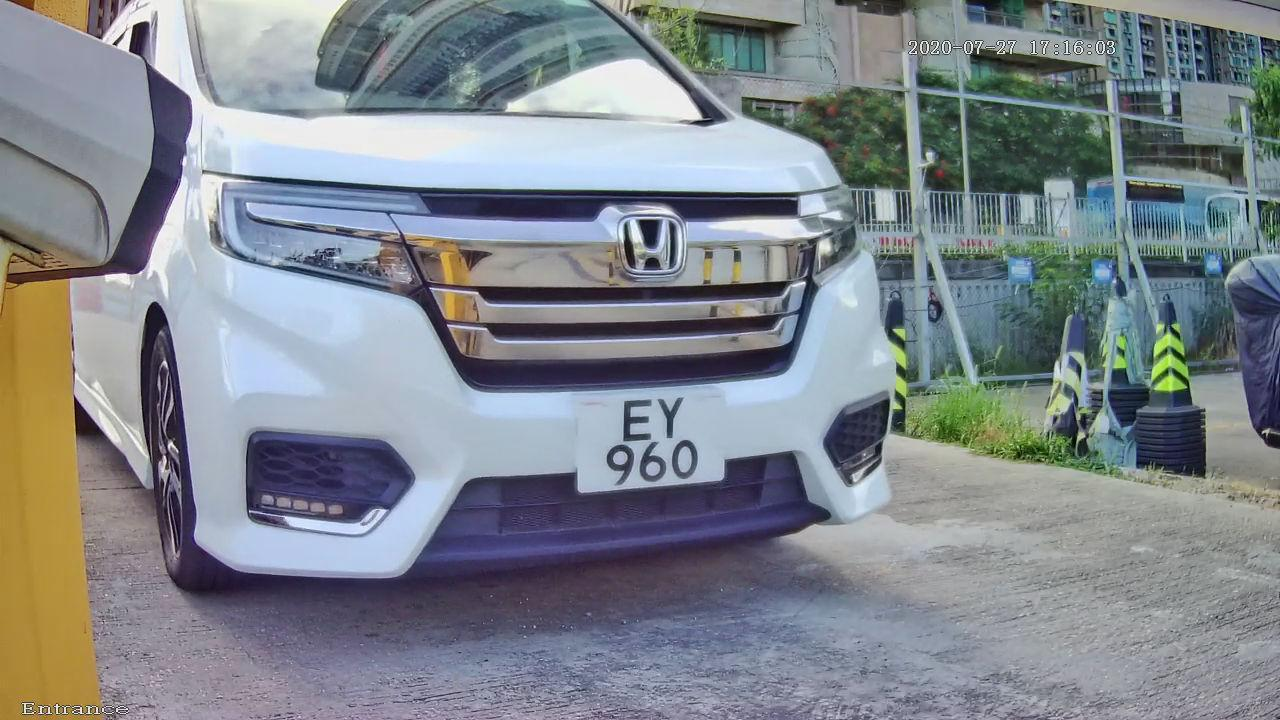privatecar: (41, 33, 983, 614)
